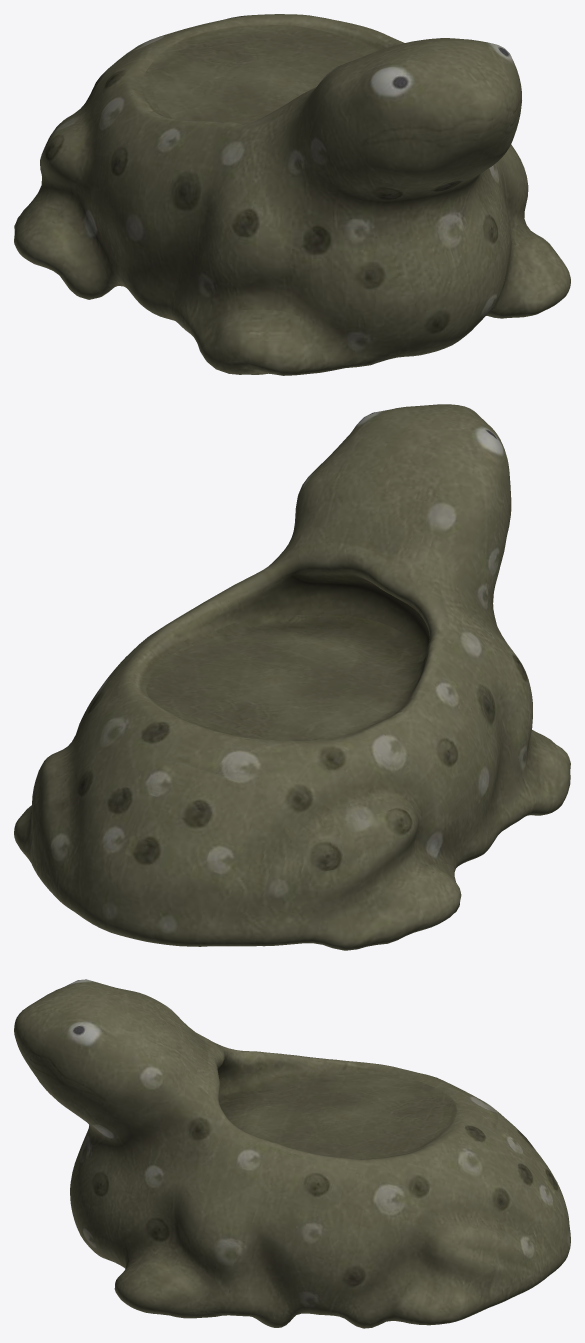
The model's file is toadinkstone.glb.
3 views of the same model, one above another, from view 1: azimuth 30°, elevation 25°; view 2: azimuth 150°, elevation 25°; view 3: azimuth 270°, elevation 25° (orthographic). The views are drawn at different scales.
Parts seen in each view (by area): view 1: SM_ToadInkStone; view 2: SM_ToadInkStone; view 3: SM_ToadInkStone.
Boxes of the visible parts, x1,y1,x2,y2 form: SM_ToadInkStone: (14,14,570,375); SM_ToadInkStone: (14,404,570,950); SM_ToadInkStone: (14,979,570,1328).
Bounding box in the file's own units: 0.1859 × 0.1418 × 0.2612.
Materials: 1 (1 with a texture image).
